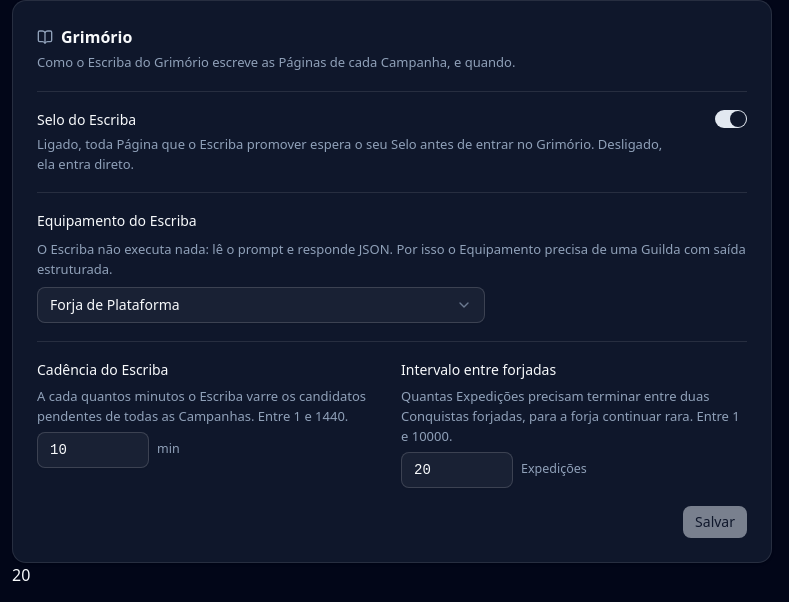
bloco do Grimório em Settings › não apaga a cadência que está sendo digitada quando uma releitura chega
Replace the text in the number field labelled "Cadência do Escriba" with "45": (93, 450) 37,432 -> 149,468
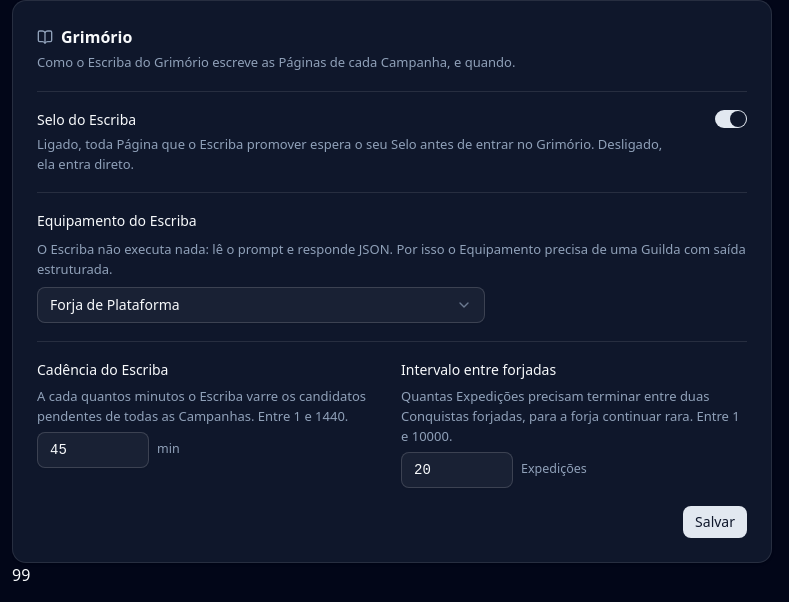
Expected: the text "99" is shown, 12,564 -> 30,586
